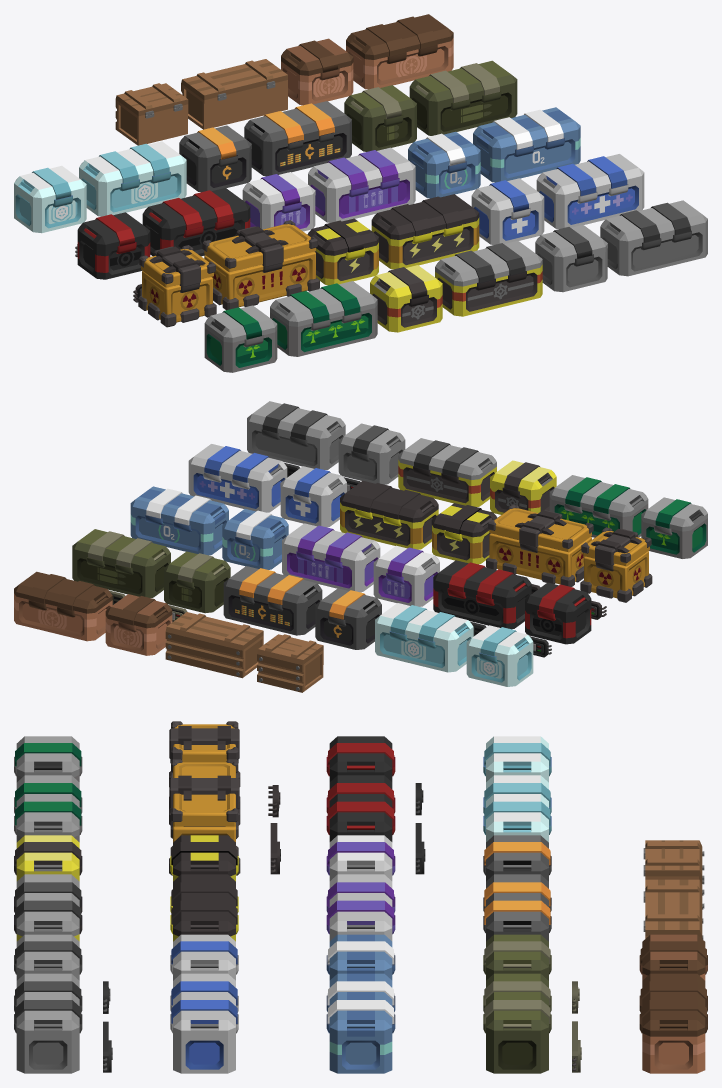
Rendered from Crates.fbx.
3 views of the same model, one above another, from view 1: azimuth 30°, elevation 25°; view 2: azimuth 150°, elevation 25°; view 3: azimuth 270°, elevation 25° (orthographic). The views are drawn at different scales.
Parts seen in each view (by area): view 1: CrateRadiation, CrateRadiationLid, CrateEngineering, CrateBotany, Crate, CrateSecurityLid, CrateWooden, CrateMedicalLid, CrateElectricalLid, CrateOxygenLid, CrateScienceLid, CratePersonalLid (+44 smaller); view 2: CrateRadiation, CrateRadiationLid, CrateWooden, CratePersonal, CrateFreezer, CratePlasma, CrateBotanyLid, CrateMedicalLid, CrateOxygenLid, CrateMedical, CratePersonalLid, CrateWeaponsLid (+44 smaller); view 3: CrateRadiationLid, CrateOxygenLid, CratePlasmaLid, CrateLid, CrateMedicalLid, CrateWeaponsLid, CrateSecurityLid, CrateScienceLid, CrateEngineeringLid, CrateBotanyLid, CratePersonalLid, CrateElectricalLid (+22 smaller).
Boxes of the visible parts, x1,y1,x2,y2 form: CrateRadiation: (204,251,319,310); CrateRadiationLid: (202,220,317,272); CrateEngineering: (435,264,542,316); CrateBotany: (270,304,377,356); Crate: (600,224,707,276); CrateSecurityLid: (142,188,250,233); CrateWooden: (181,80,287,129); CrateMedicalLid: (536,154,644,199); CrateElectricalLid: (371,194,479,239); CrateOxygenLid: (473,107,580,153); CrateScienceLid: (308,147,415,193); CratePersonalLid: (244,101,351,146); CrateRadiation: (486,533,591,586); CrateRadiationLid: (488,504,593,552); CrateWooden: (165,632,263,678); CratePersonal: (223,588,322,635); CrateFreezer: (375,625,473,672); CratePlasma: (14,593,112,641); CrateBotanyLid: (549,475,648,516); CrateMedicalLid: (188,444,287,485); CrateOxygenLid: (130,486,228,528); CrateMedical: (188,465,287,512); CratePersonalLid: (223,566,322,607); CrateWeaponsLid: (72,529,170,570); CrateRadiationLid: (169,759,239,826); CrateOxygenLid: (327,973,394,1036); CratePlasmaLid: (640,973,706,1036); CrateLid: (15,973,81,1036); CrateMedicalLid: (171,973,237,1036); CrateWeaponsLid: (484,973,550,1036); CrateSecurityLid: (327,775,394,837); CrateScienceLid: (327,874,394,936); CrateEngineeringLid: (15,874,81,936); CrateBotanyLid: (15,775,81,837); CratePersonalLid: (484,874,550,936); CrateElectricalLid: (171,874,237,936).
Bounding box in the file's own units: 8.79 × 1.2 × 8.88.
